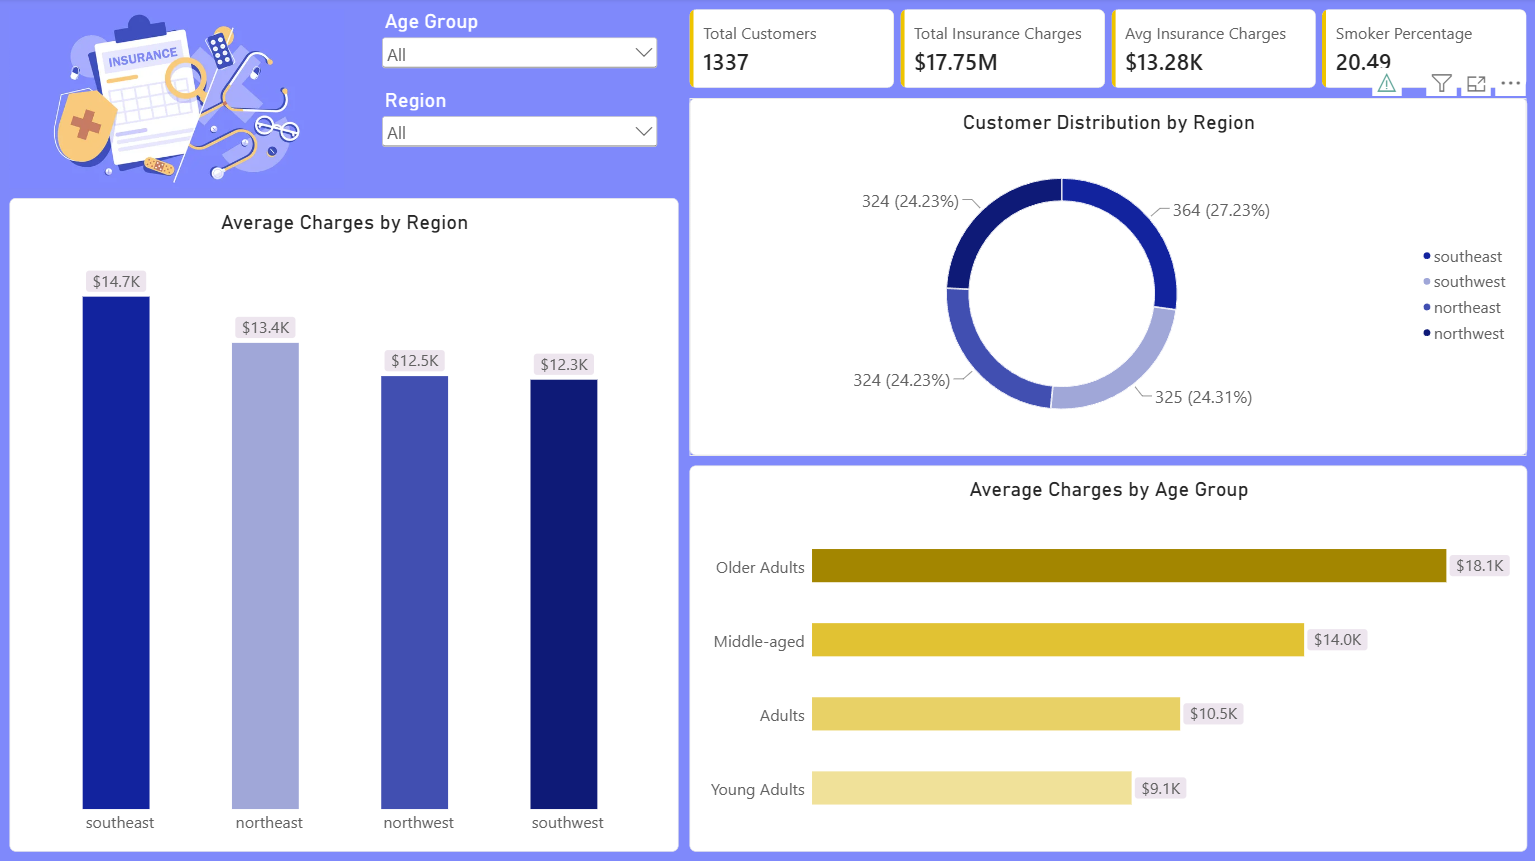

This screenshot's page, from the dashboard's own definition file:
{"tool":"powerbi","page":{"name":"Insurance Cost Overview","canvas":[1920,1080],"ordinal":0},"visuals":[{"type":"cardVisual","fields":{"Data":["healthcare_insurance_cleaned.Total Customers","healthcare_insurance_cleaned.Total Insurance Charges","healthcare_insurance_cleaned.Average Insurance Charges","healthcare_insurance_cleaned.Smoker Percentage"]},"box":[863,14.3,1044.9,98.1],"z":0},{"type":"clusteredColumnChart","title":"Average Charges by Region","fields":{"Category":["healthcare_insurance_cleaned.region"],"Y":["Avg(healthcare_insurance_cleaned.charges)"]},"box":[16,249.6,834.5,814.9],"z":1000},{"type":"clusteredBarChart","title":"Average Charges by Age Group","fields":{"Category":["healthcare_insurance_cleaned.age_group"],"Y":["Avg(healthcare_insurance_cleaned.charges)"]},"box":[863,583.1,1044.9,481.4],"z":2000},{"type":"donutChart","title":"Customer Distribution by Region","fields":{"Category":["healthcare_insurance_cleaned.region"],"Y":["healthcare_insurance_cleaned.Total Customers"]},"box":[863,124.8,1044.9,445.8],"z":3000},{"type":"slicer","fields":{"Values":["healthcare_insurance_cleaned.BMI Category"]},"box":[476.1,14.3,353,112.3],"z":4000},{"type":"image","box":[16,14.3,417.2,222.9],"z":5000},{"type":"slicer","fields":{"Values":["healthcare_insurance_cleaned.region"]},"box":[476.1,112.3,353,112.3],"z":6000}]}

Visuals, with their boxes in screenshot pixels (x1, y1, x2, y2), scaled from the page's 1920x1080 canvas onto the 1535x861 screenshot:
cardVisual - healthcare_insurance_cleaned.Total Customers x healthcare_insurance_cleaned.Total Insurance Charges: <box>690,11,1525,90</box>
"Average Charges by Region" clusteredColumnChart: <box>13,199,680,849</box>
"Average Charges by Age Group" clusteredBarChart: <box>690,465,1525,849</box>
"Customer Distribution by Region" donutChart: <box>690,99,1525,455</box>
slicer - healthcare_insurance_cleaned.BMI Category: <box>381,11,663,101</box>
image: <box>13,11,346,189</box>
slicer - healthcare_insurance_cleaned.region: <box>381,90,663,179</box>
